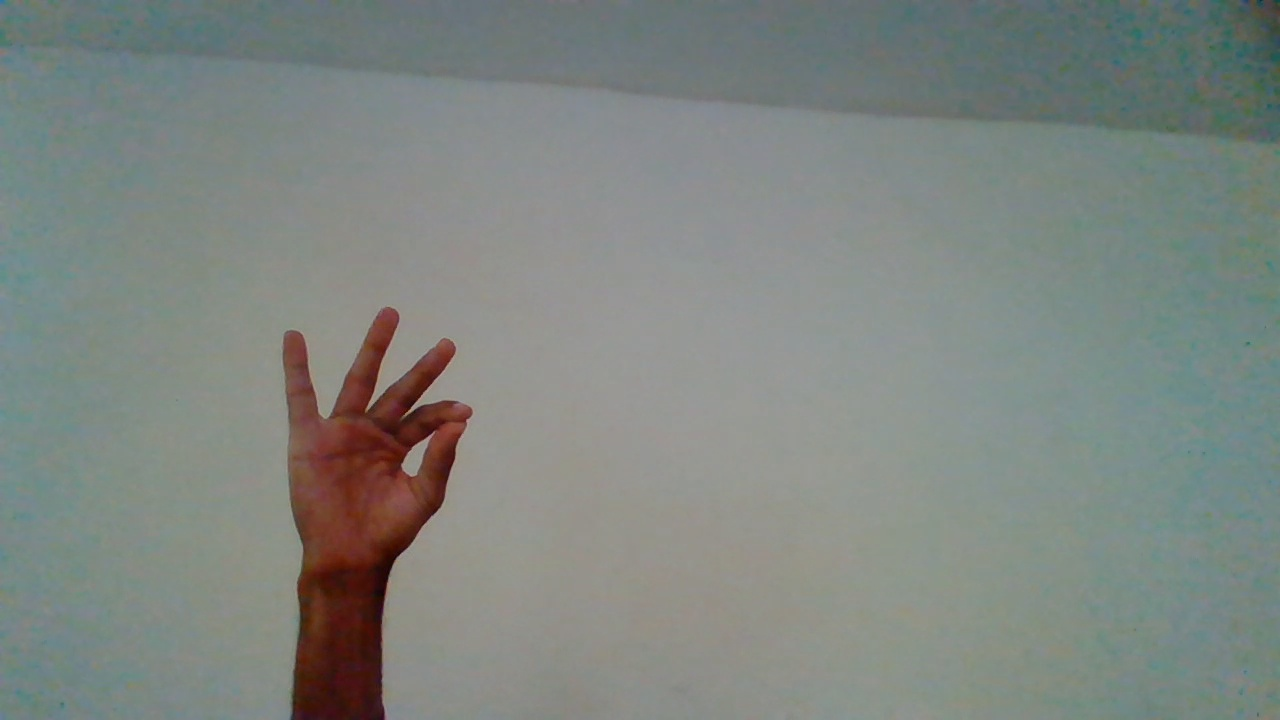le: (280, 306, 472, 678)
